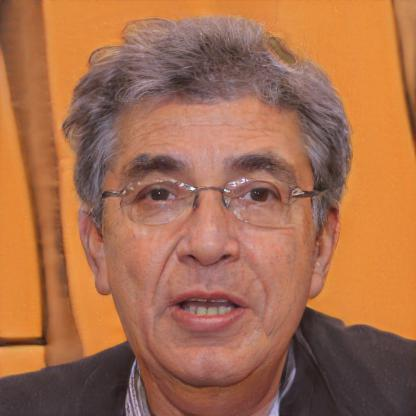glasses: (106, 170, 313, 229)
